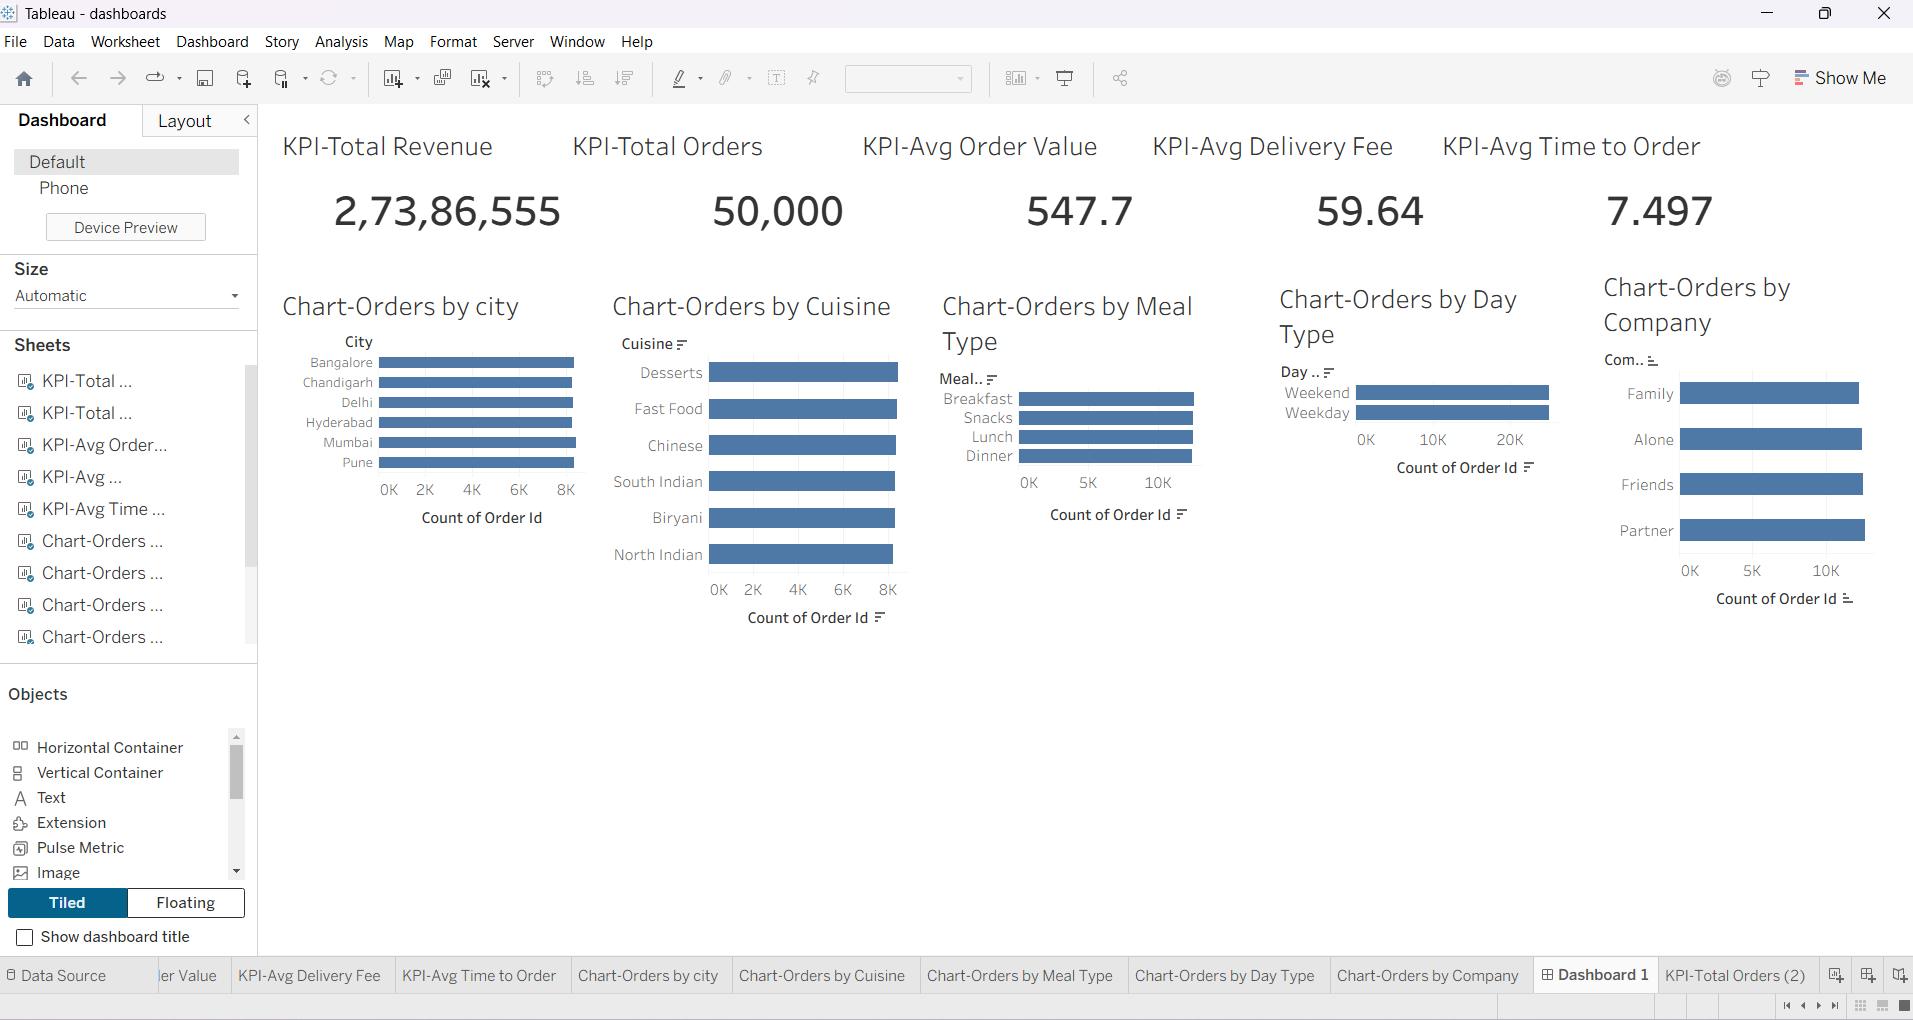

The page's visual inventory and layout, read from the dashboard file:
{"tool":"tableau","page":{"name":"Dashboard 1","canvas":[1000,1000],"units":"permille","ordinal":0},"visuals":[{"type":"worksheet","title":"KPI-Total Revenue","mark":"Automatic","box":[12.1,23.5,173.2,141]},{"type":"worksheet","title":"KPI-Total Orders","mark":"Automatic","box":[187.1,23.5,169,141]},{"type":"worksheet","title":"KPI-Avg Order Value","mark":"Automatic","box":[362.1,23.5,169,141]},{"type":"worksheet","title":"KPI-Avg Delivery Fee","mark":"Automatic","box":[537.1,23.5,169,141]},{"type":"worksheet","title":"KPI-Avg Time to Order","mark":"Automatic","box":[712.1,23.5,169,141]},{"type":"worksheet","title":"Chart-Orders by Company","mark":"Automatic","rows":["company"],"cols":["order_id"],"box":[809.3,189.2,166,412.5]},{"type":"worksheet","title":"Chart-Orders by Day Type","mark":"Automatic","rows":["day_type"],"cols":["order_id"],"box":[613.8,203.3,171.4,413.6]},{"type":"worksheet","title":"Chart-Orders by city","mark":"Automatic","rows":["city"],"cols":["order_id"],"box":[12.1,211.5,185.9,414.8]},{"type":"worksheet","title":"Chart-Orders by Cuisine","mark":"Automatic","rows":["cuisine"],"cols":["order_id"],"box":[211.2,211.5,181.1,412.5]},{"type":"worksheet","title":"Chart-Orders by Meal Type","mark":"Automatic","rows":["meal_type"],"cols":["order_id"],"box":[410.4,211.5,159.9,412.5]}]}

Visuals, with their boxes on the dashboard's canvas, which has no fixed pixel size, in thousandths of its width and height (x1, y1, x2, y2). These are canvas units, not pixel positions in the 1913x1020 screenshot, which may show the page scaled, cropped or inside an application window:
"KPI-Total Revenue" worksheet: select_region(12, 24, 185, 164)
"KPI-Total Orders" worksheet: select_region(187, 24, 356, 164)
"KPI-Avg Order Value" worksheet: select_region(362, 24, 531, 164)
"KPI-Avg Delivery Fee" worksheet: select_region(537, 24, 706, 164)
"KPI-Avg Time to Order" worksheet: select_region(712, 24, 881, 164)
"Chart-Orders by Company" worksheet: select_region(809, 189, 975, 602)
"Chart-Orders by Day Type" worksheet: select_region(614, 203, 785, 617)
"Chart-Orders by city" worksheet: select_region(12, 212, 198, 626)
"Chart-Orders by Cuisine" worksheet: select_region(211, 212, 392, 624)
"Chart-Orders by Meal Type" worksheet: select_region(410, 212, 570, 624)
